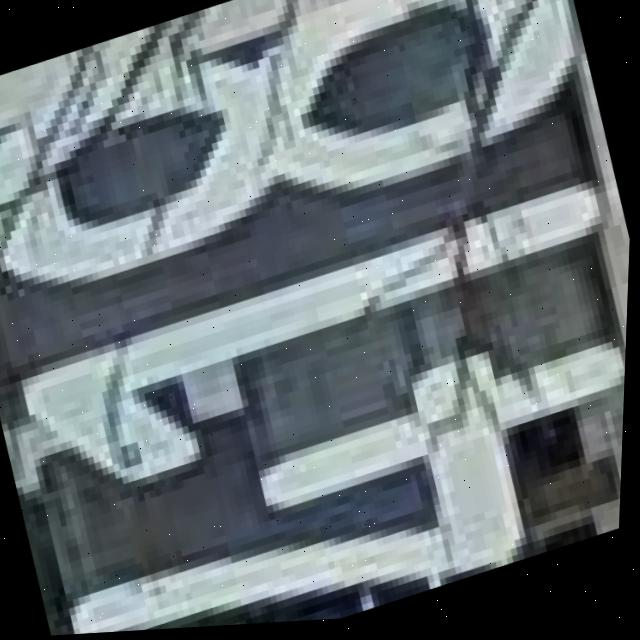character: (0, 165, 632, 518), (21, 292, 628, 637), (0, 0, 609, 327)
